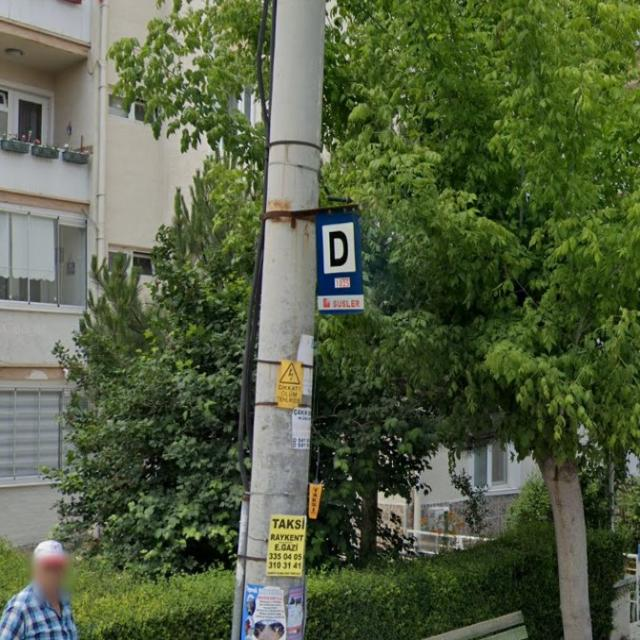durak: (316, 217, 364, 276)
